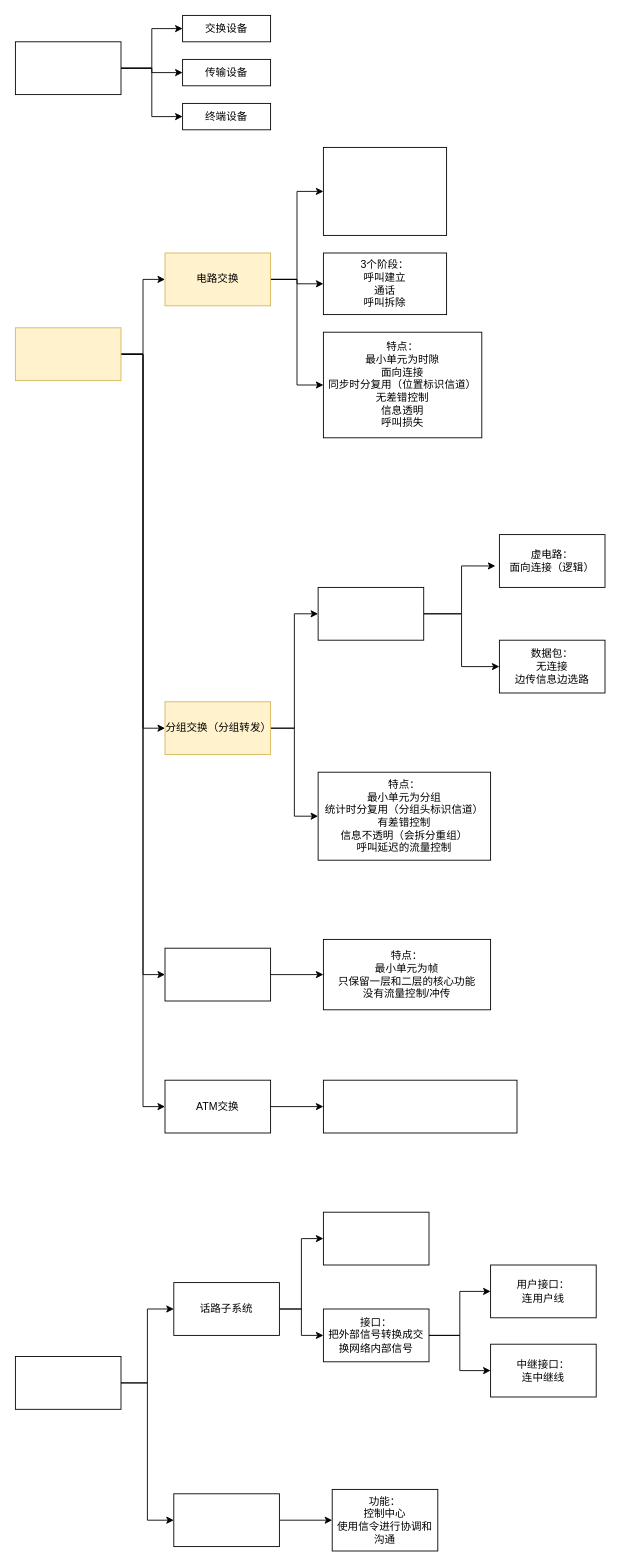
The diagram is 620 pixels wide and 1566 high, and some of its shapes have lost their labels. Each missing label, with the centre of its shape:
"1.通信网三要素" goes at pixel 68 68.
"交换方式特点" goes at pixel 68 354.
"交换系统基本结构" goes at pixel 68 1382.
"交换网络： 完成交换功能" goes at pixel 376 1238.
"分类" goes at pixel 370 613.
"帧中继" goes at pixel 217 974.
"控制子系统" goes at pixel 226 1520.
"特点： 最小单元为信元 采用异步时分复用（时间片等长的统计） 面向连接（逻辑）——虚连接VC" goes at pixel 420 1106.
"通信过程： 摘机、拨号、寻找被叫、振铃+回铃音、应答、挂机、拆除线路、送忙音、结束" goes at pixel 385 191.
